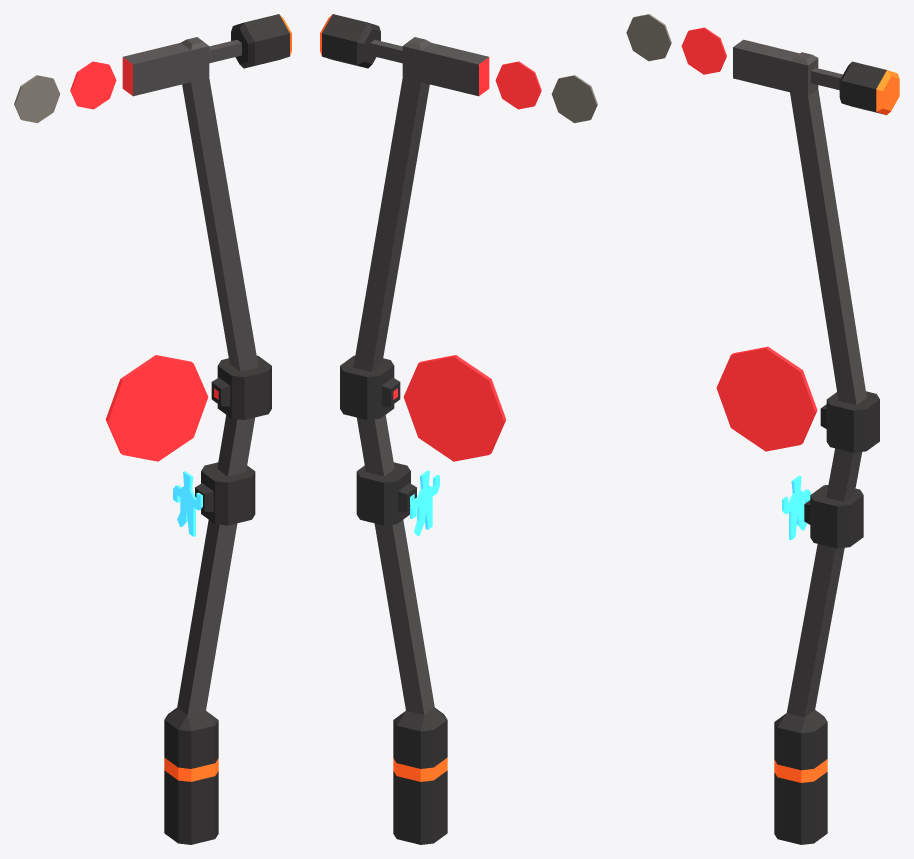
Rendered from scifi_scifi-traffic-lights-pedestrian-go.fbx.
3 views of the same model, side by side, from view 1: azimuth 30°, elevation 25°; view 2: azimuth 150°, elevation 25°; view 3: azimuth 330°, elevation 25° (orthographic).
Parts seen in each view (by area): view 1: scifi_scifi_traffic_lights_pedestrian_go; view 2: scifi_scifi_traffic_lights_pedestrian_go; view 3: scifi_scifi_traffic_lights_pedestrian_go.
Part boxes in pixels (box(x1,y1,x2,y2)): scifi_scifi_traffic_lights_pedestrian_go: box(14, 14, 291, 844); scifi_scifi_traffic_lights_pedestrian_go: box(320, 14, 597, 844); scifi_scifi_traffic_lights_pedestrian_go: box(626, 14, 899, 844).
Bounding box in the file's own units: 70.53 × 200 × 12.43.
